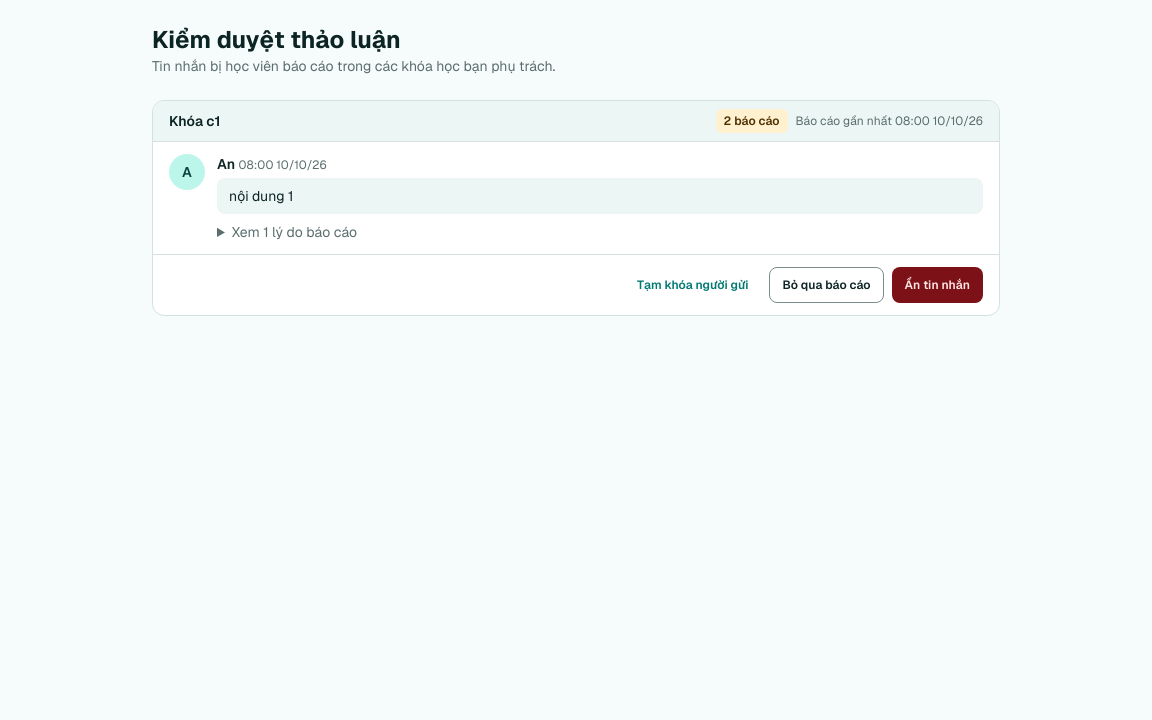
Test: ModerationQueue › opens the hide and mute dialogs on the right message and course
The image size is (1152, 720).
Click the button "Ẩn tin nhắn". click: (937, 285)
box: [892, 267, 983, 303]
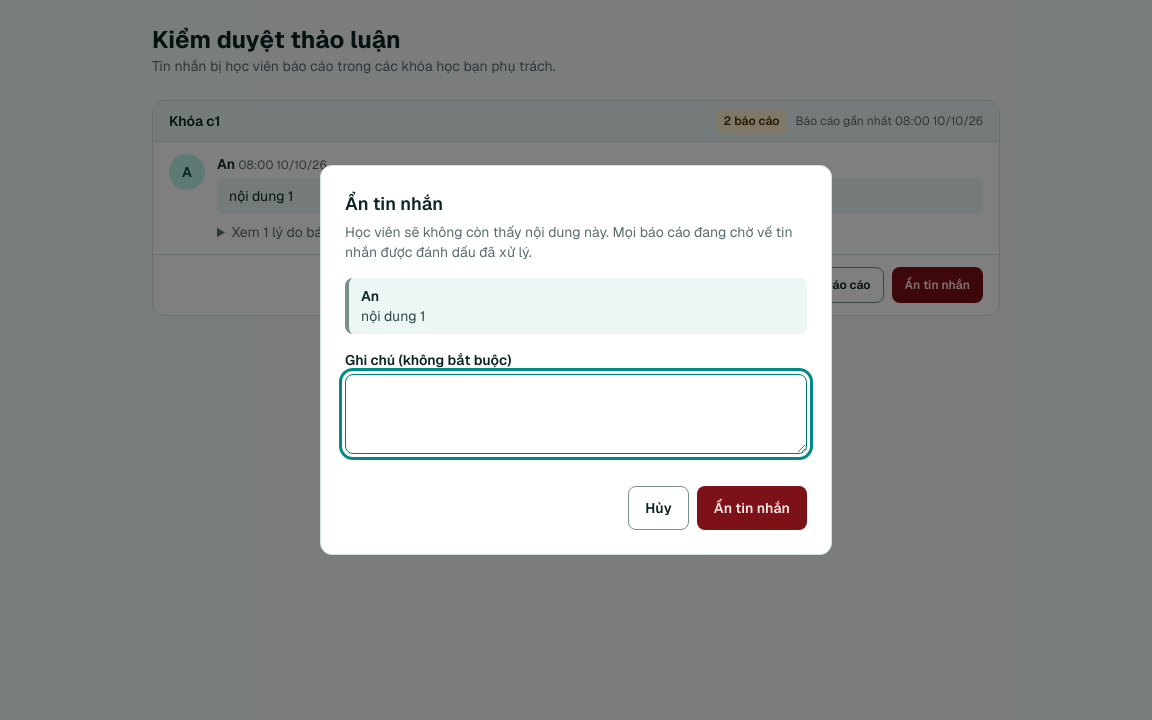
Expected: the dialog "Ẩn tin nhắn" shows "nội dung 1", [361, 307, 425, 325]
Click the button "Hủy". click: (658, 508)
box: [628, 486, 689, 530]
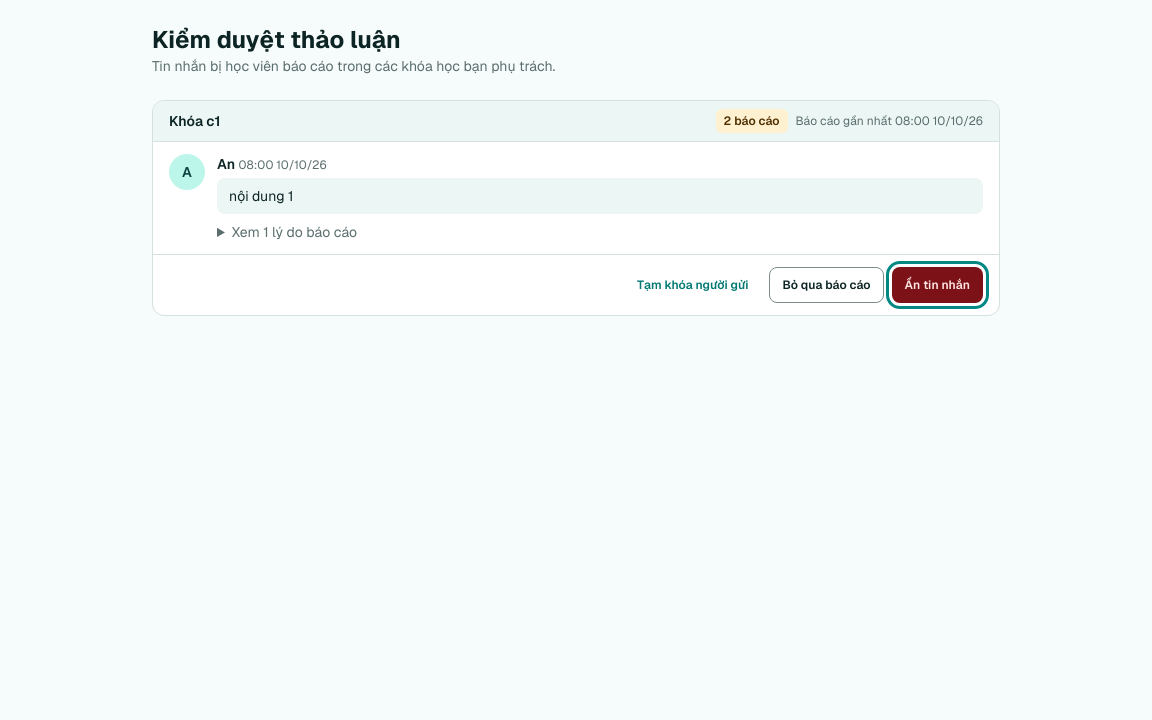
Click the button "Tạm khóa người gửi". click: (693, 285)
box: [624, 267, 761, 303]
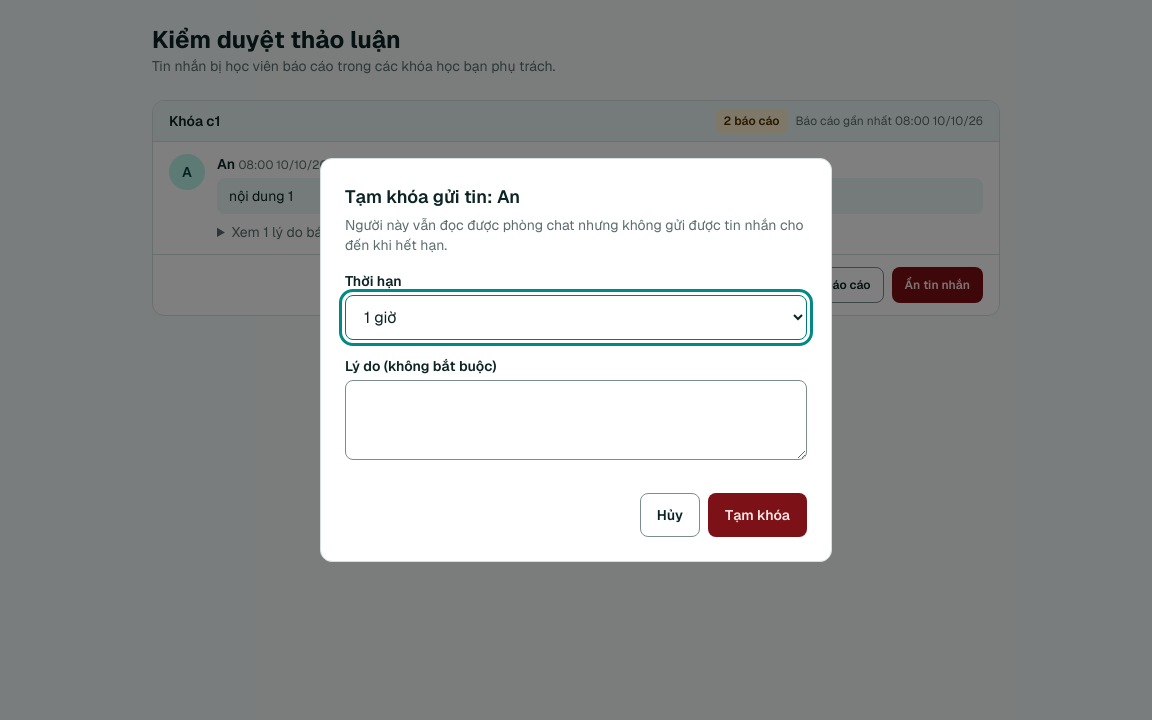
Expected: the dialog "Tạm khóa gửi tin: An" is shown, [320, 158, 832, 562]
